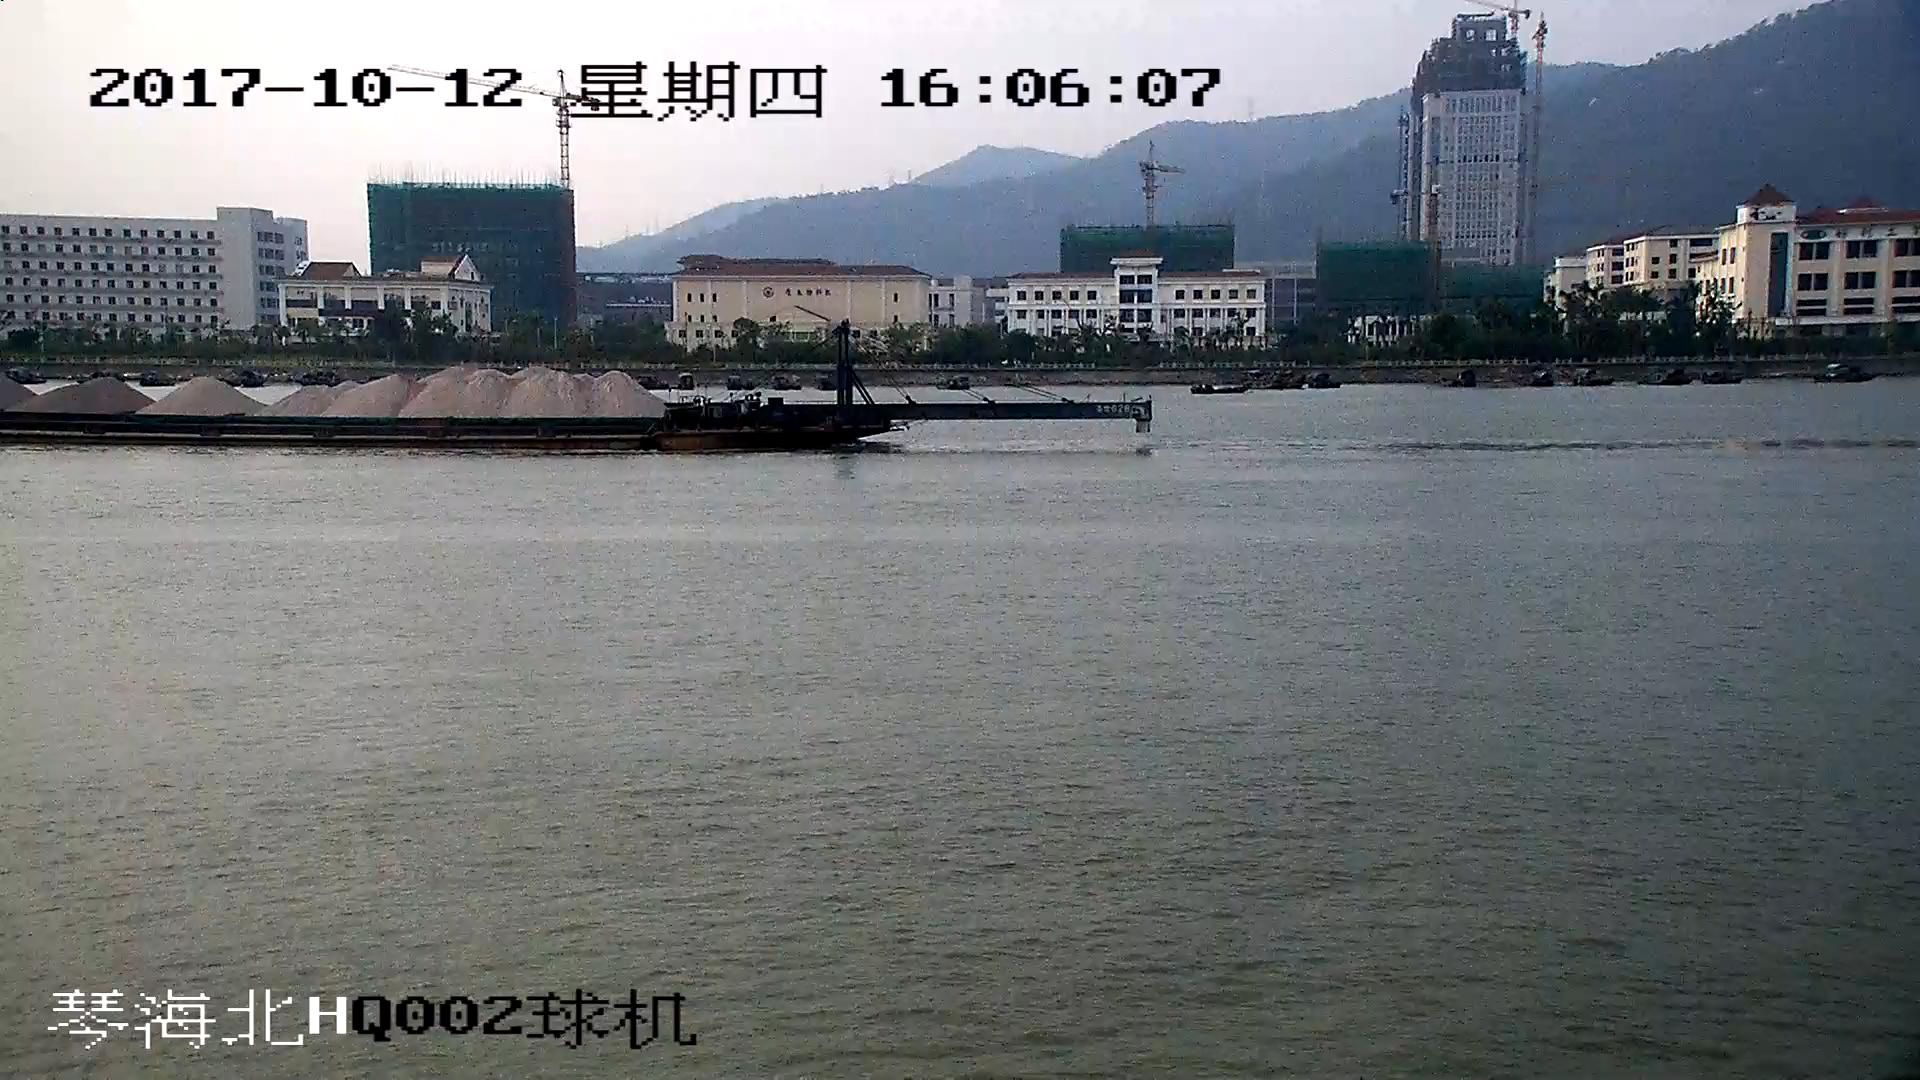ore carrier: (1, 319, 1152, 451)
